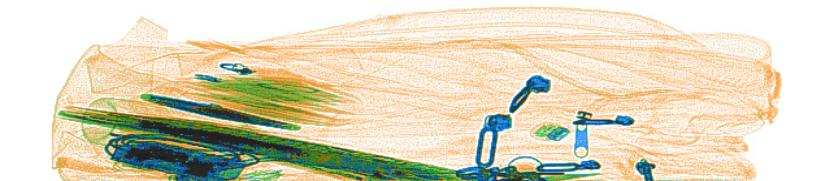USBFlashDisk: (529, 118, 570, 142)
pressure: (81, 94, 238, 155)
